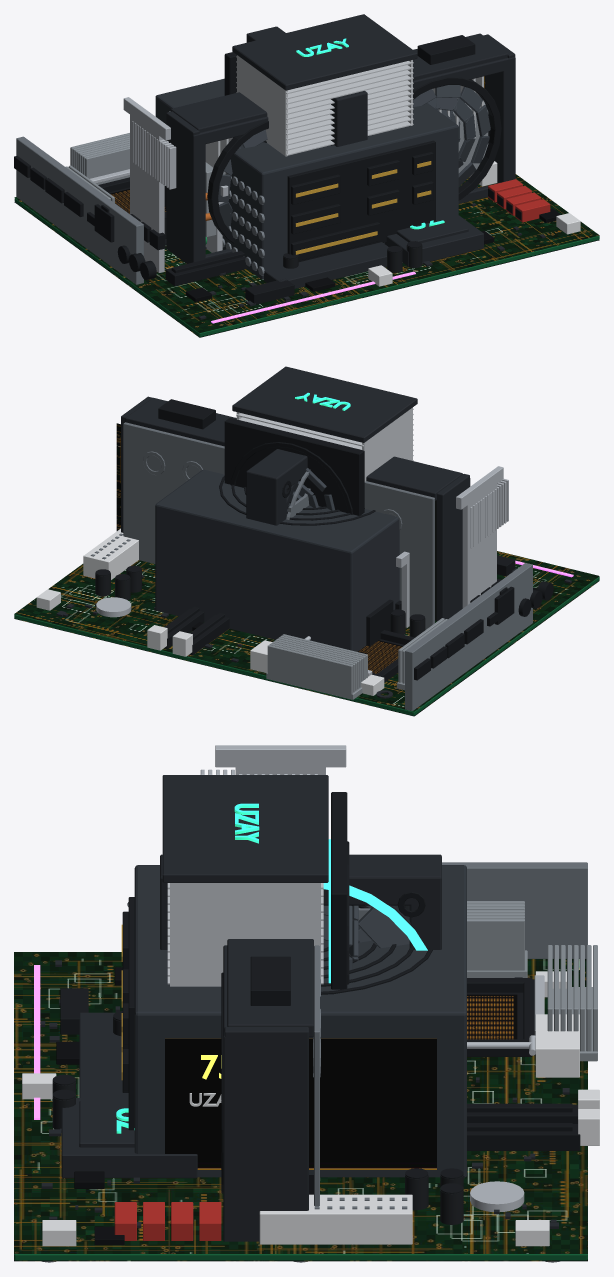
Rendered from parcalar.glb.
3 views of the same model, one above another, from view 1: azimuth 30°, elevation 25°; view 2: azimuth 150°, elevation 25°; view 3: azimuth 270°, elevation 25° (orthographic). The views are drawn at different scales.
Visible parts, largest first — view 1: gpu_shroud, psu_kasa, mb_pcb_ust, psu_mod, sg_kanat, sg_kapak, mb_io, mb_chipset, gpu_bracket, FAN_gpu_2, mb_pcb, mb_io_port (+19 smaller); view 2: psu_kasa, gpu_bp, mb_pcb_ust, gpu_shroud, sg_kapak, sg_fan_cer, mb_io, mb_vrm, gpu_bracket, fan_cerceve, sg_kanat, mb_pcb (+16 smaller); view 3: mb_pcb_ust, psu_kasa, gpu_shroud, psu_lbl, sg_kapak, sg_kanat, mb_chipset, mb_guc, mb_vrm, mb_io, fan_cerceve, mb_ram_slot (+24 smaller).
Boxes of the visible parts, x1,y1,x2,y2 form: gpu_shroud: (166,33,515,263); psu_kasa: (155,78,458,279); mb_pcb_ust: (14,174,599,332); psu_mod: (287,140,435,262); sg_kanat: (236,55,413,156); sg_kapak: (232,14,417,90); mb_io: (16,136,143,284); mb_chipset: (264,215,483,288); gpu_bracket: (123,97,176,272); FAN_gpu_2: (413,85,490,186); mb_pcb: (14,198,599,337); mb_io_port: (14,155,156,280); psu_kasa: (155,469,399,651); gpu_bp: (123,422,434,629); mb_pcb_ust: (14,551,599,711); gpu_shroud: (121,396,470,621); sg_kapak: (232,366,417,442); sg_fan_cer: (224,418,364,515); mb_io: (405,563,532,710); mb_vrm: (266,618,447,699); gpu_bracket: (456,466,508,608); fan_cerceve: (246,449,307,525); sg_kanat: (236,407,413,481); mb_pcb: (14,577,599,715); mb_pcb_ust: (14,952,587,1253); psu_kasa: (134,865,466,1177); gpu_shroud: (223,939,313,1241); psu_lbl: (165,1038,436,1169); sg_kapak: (162,775,328,882); sg_kanat: (167,883,323,986); mb_chipset: (61,1012,197,1178); mb_guc: (259,1014,579,1244); mb_vrm: (467,901,597,1061); mb_io: (442,862,587,958); fan_cerceve: (160,854,441,949); mb_ram_slot: (467,1103,580,1150).
Size of the model in its own units: 7.14 by 3.32 by 5.82.
56 materials, 6 textured.
